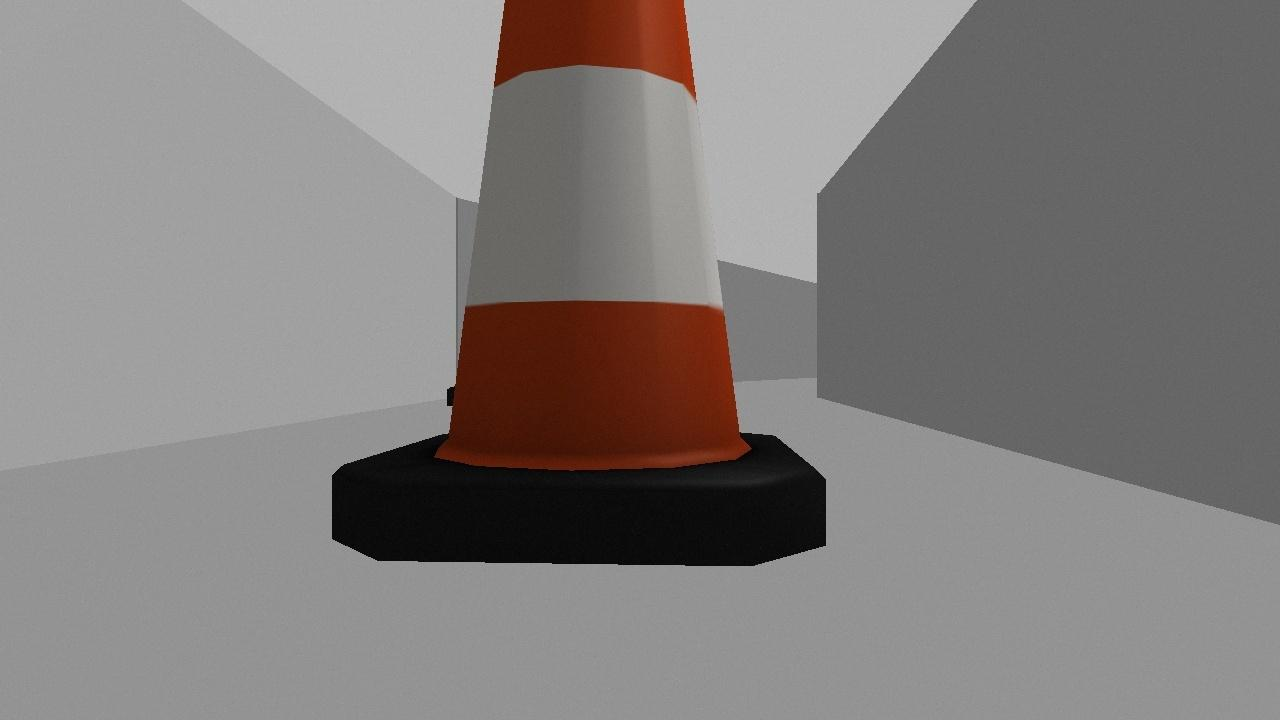cone_barrel: (329, 0, 826, 564)
